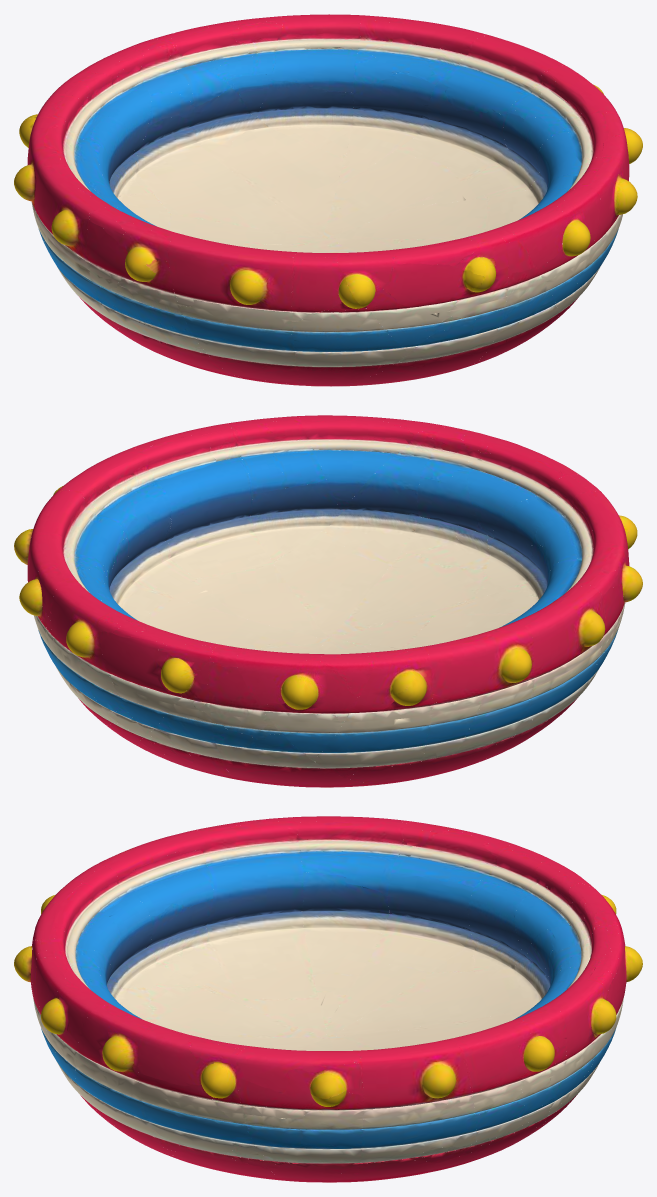
Rendered from disco-top.glb.
3 renders of one model, top to bottom at view 1: azimuth 30°, elevation 25°; view 2: azimuth 150°, elevation 25°; view 3: azimuth 270°, elevation 25°, orthographic.
Visible parts, largest first — view 1: tripo_node_078831c3-eeed-49e9-9d18-594c8e4cb311; view 2: tripo_node_078831c3-eeed-49e9-9d18-594c8e4cb311; view 3: tripo_node_078831c3-eeed-49e9-9d18-594c8e4cb311.
Boxes of the visible parts, box(x1,y1,x2,y2) form: tripo_node_078831c3-eeed-49e9-9d18-594c8e4cb311: box(14, 14, 642, 386); tripo_node_078831c3-eeed-49e9-9d18-594c8e4cb311: box(14, 415, 642, 787); tripo_node_078831c3-eeed-49e9-9d18-594c8e4cb311: box(14, 816, 642, 1182).
Size of the model in its own units: 0.9786 by 0.2576 by 0.98.
Materials: 1 (1 with a texture image).
